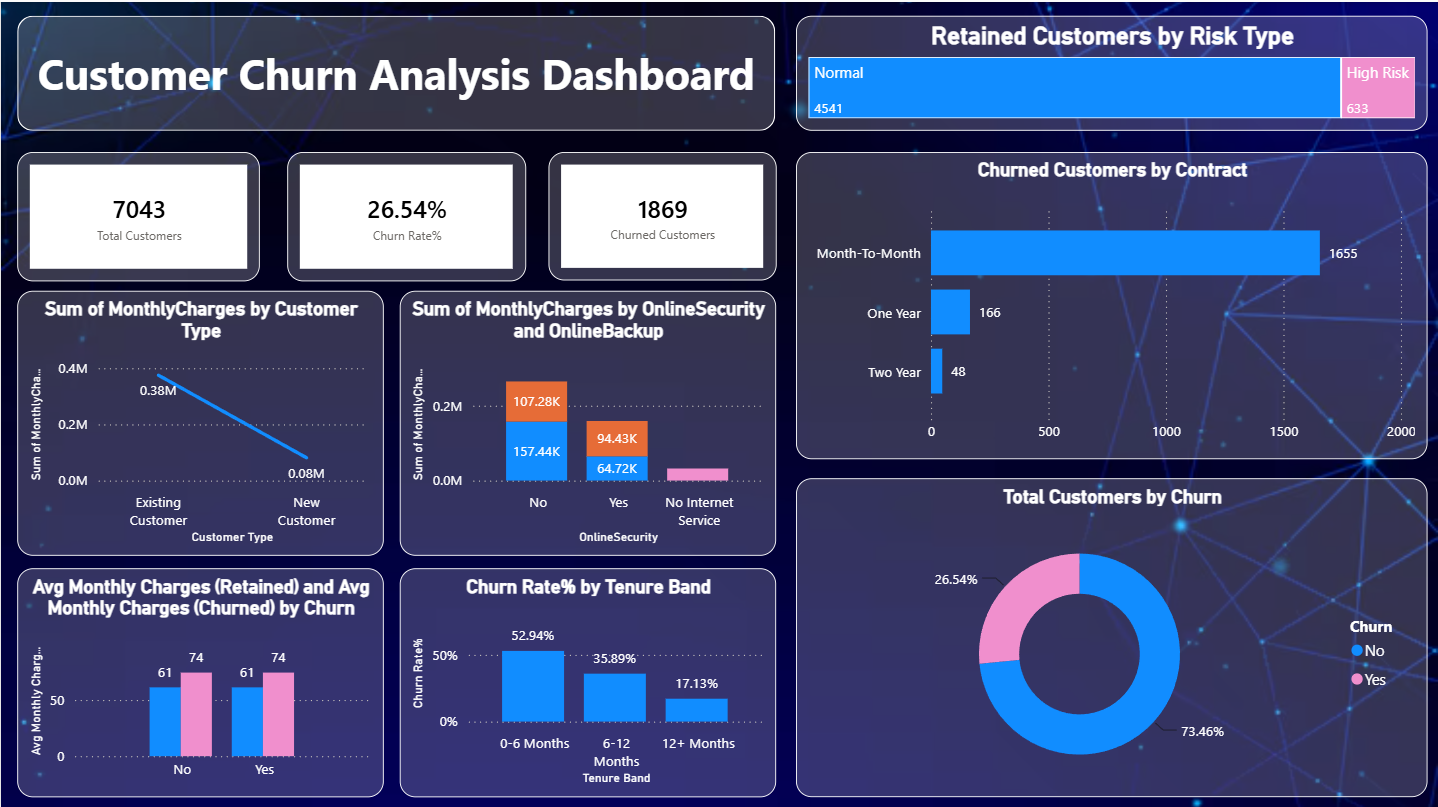

The dashboard page shown, as its layout file describes it:
{"tool":"powerbi","page":{"name":"Page 1","canvas":[1280,720],"ordinal":0},"visuals":[{"type":"shape","box":[15,12.5,675,102.5],"z":0},{"type":"treemap","fields":{"Values":["Calculated Measures.Retained Customers"],"Group":["telco_churn_unclean.Risk Type"]},"box":[707.5,12.5,562.5,102.5],"z":1000},{"type":"cardVisual","fields":{"Data":["Calculated Measures.Total Customers"]},"box":[15,133.8,216.2,115],"z":2000},{"type":"cardVisual","fields":{"Data":["Calculated Measures.Churn Rate%"]},"box":[255,133.8,212.5,115],"z":3000},{"type":"cardVisual","fields":{"Data":["Calculated Measures.Churned Customers"]},"box":[487.5,133.8,202.9,114.7],"z":4000},{"type":"donutChart","fields":{"Y":["Calculated Measures.Total Customers"],"Category":["telco_churn_unclean.Churn"]},"box":[707.5,423.8,562.5,283.8],"z":5000},{"type":"barChart","fields":{"Category":["telco_churn_unclean.Contract"],"Y":["Calculated Measures.Churned Customers"]},"box":[707.5,133.8,562.5,273.8],"z":6000},{"type":"columnChart","fields":{"Category":["telco_churn_unclean.OnlineSecurity"],"Y":["Sum(telco_churn_unclean.MonthlyCharges)"],"Series":["telco_churn_unclean.OnlineBackup"]},"box":[355,257.5,335,236.2],"z":7000},{"type":"columnChart","fields":{"Category":["telco_churn_unclean.Tenure Band"],"Y":["Calculated Measures.Churn Rate%"]},"box":[355,503.8,335,203.8],"z":8000},{"type":"clusteredColumnChart","fields":{"Category":["telco_churn_unclean.Churn"],"Y":["Calculated Measures.Avg Monthly Charges (Retained)","Calculated Measures.Avg Monthly Charges (Churned)"]},"box":[15,503.8,326.2,203.8],"z":9000},{"type":"lineChart","fields":{"Category":["telco_churn_unclean.Customer Type"],"Y":["Sum(telco_churn_unclean.MonthlyCharges)"]},"box":[15,257.5,326.2,236.2],"z":10000}]}

Visuals, with their boxes in screenshot pixels (x1, y1, x2, y2), scaled from the page's 1280x720 canvas onto the 1438x807 screenshot:
shape: crop(17, 14, 775, 129)
treemap - Calculated Measures.Retained Customers x telco_churn_unclean.Risk Type: crop(795, 14, 1427, 129)
cardVisual - Calculated Measures.Total Customers: crop(17, 150, 260, 279)
cardVisual - Calculated Measures.Churn Rate%: crop(286, 150, 525, 279)
cardVisual - Calculated Measures.Churned Customers: crop(548, 150, 776, 279)
donutChart - Calculated Measures.Total Customers x telco_churn_unclean.Churn: crop(795, 475, 1427, 793)
barChart - telco_churn_unclean.Contract x Calculated Measures.Churned Customers: crop(795, 150, 1427, 457)
columnChart - telco_churn_unclean.OnlineSecurity x Sum(telco_churn_unclean.MonthlyCharges): crop(399, 289, 775, 553)
columnChart - telco_churn_unclean.Tenure Band x Calculated Measures.Churn Rate%: crop(399, 565, 775, 793)
clusteredColumnChart - telco_churn_unclean.Churn x Calculated Measures.Avg Monthly Charges (Retained): crop(17, 565, 383, 793)
lineChart - telco_churn_unclean.Customer Type x Sum(telco_churn_unclean.MonthlyCharges): crop(17, 289, 383, 553)
